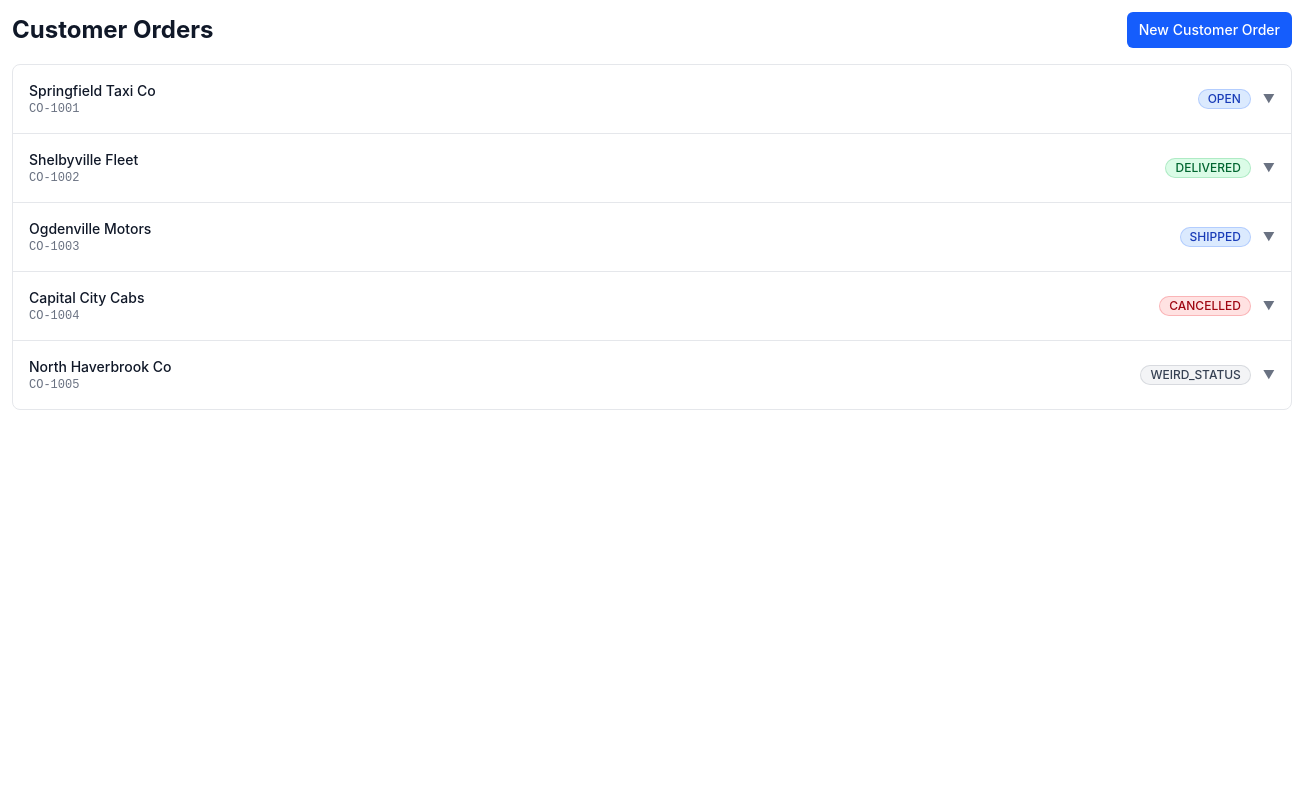
Test case: CustomerOrders detail › expands a selected order showing line items and derived fulfillment badges
The image size is (1304, 812).
Click the text "CO-1001" at {"x": 54, "y": 109}, box [29,102,79,116]
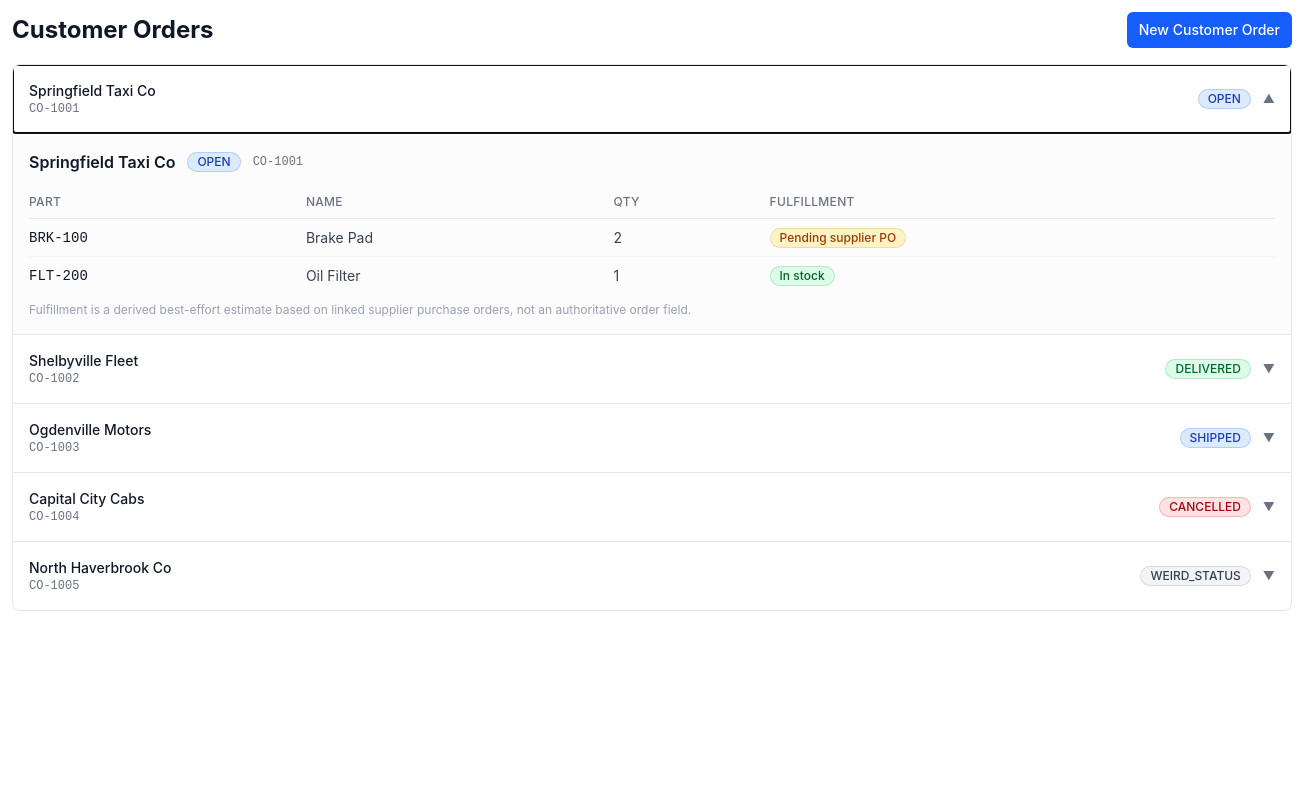
Expected: the text "Brake Pad" is shown, [306,218,614,256]
Expected: the text "Oil Filter" is shown, [306,256,614,294]
Expected: the text "Pending supplier PO" is shown, [770,228,906,248]
